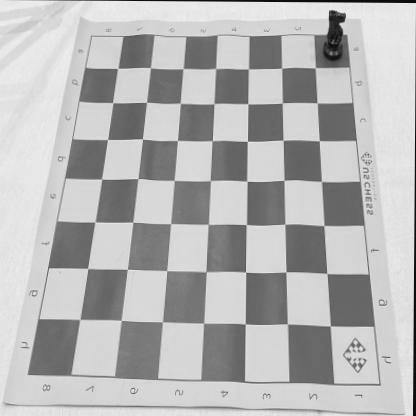black-knight: (322, 9, 346, 60)
